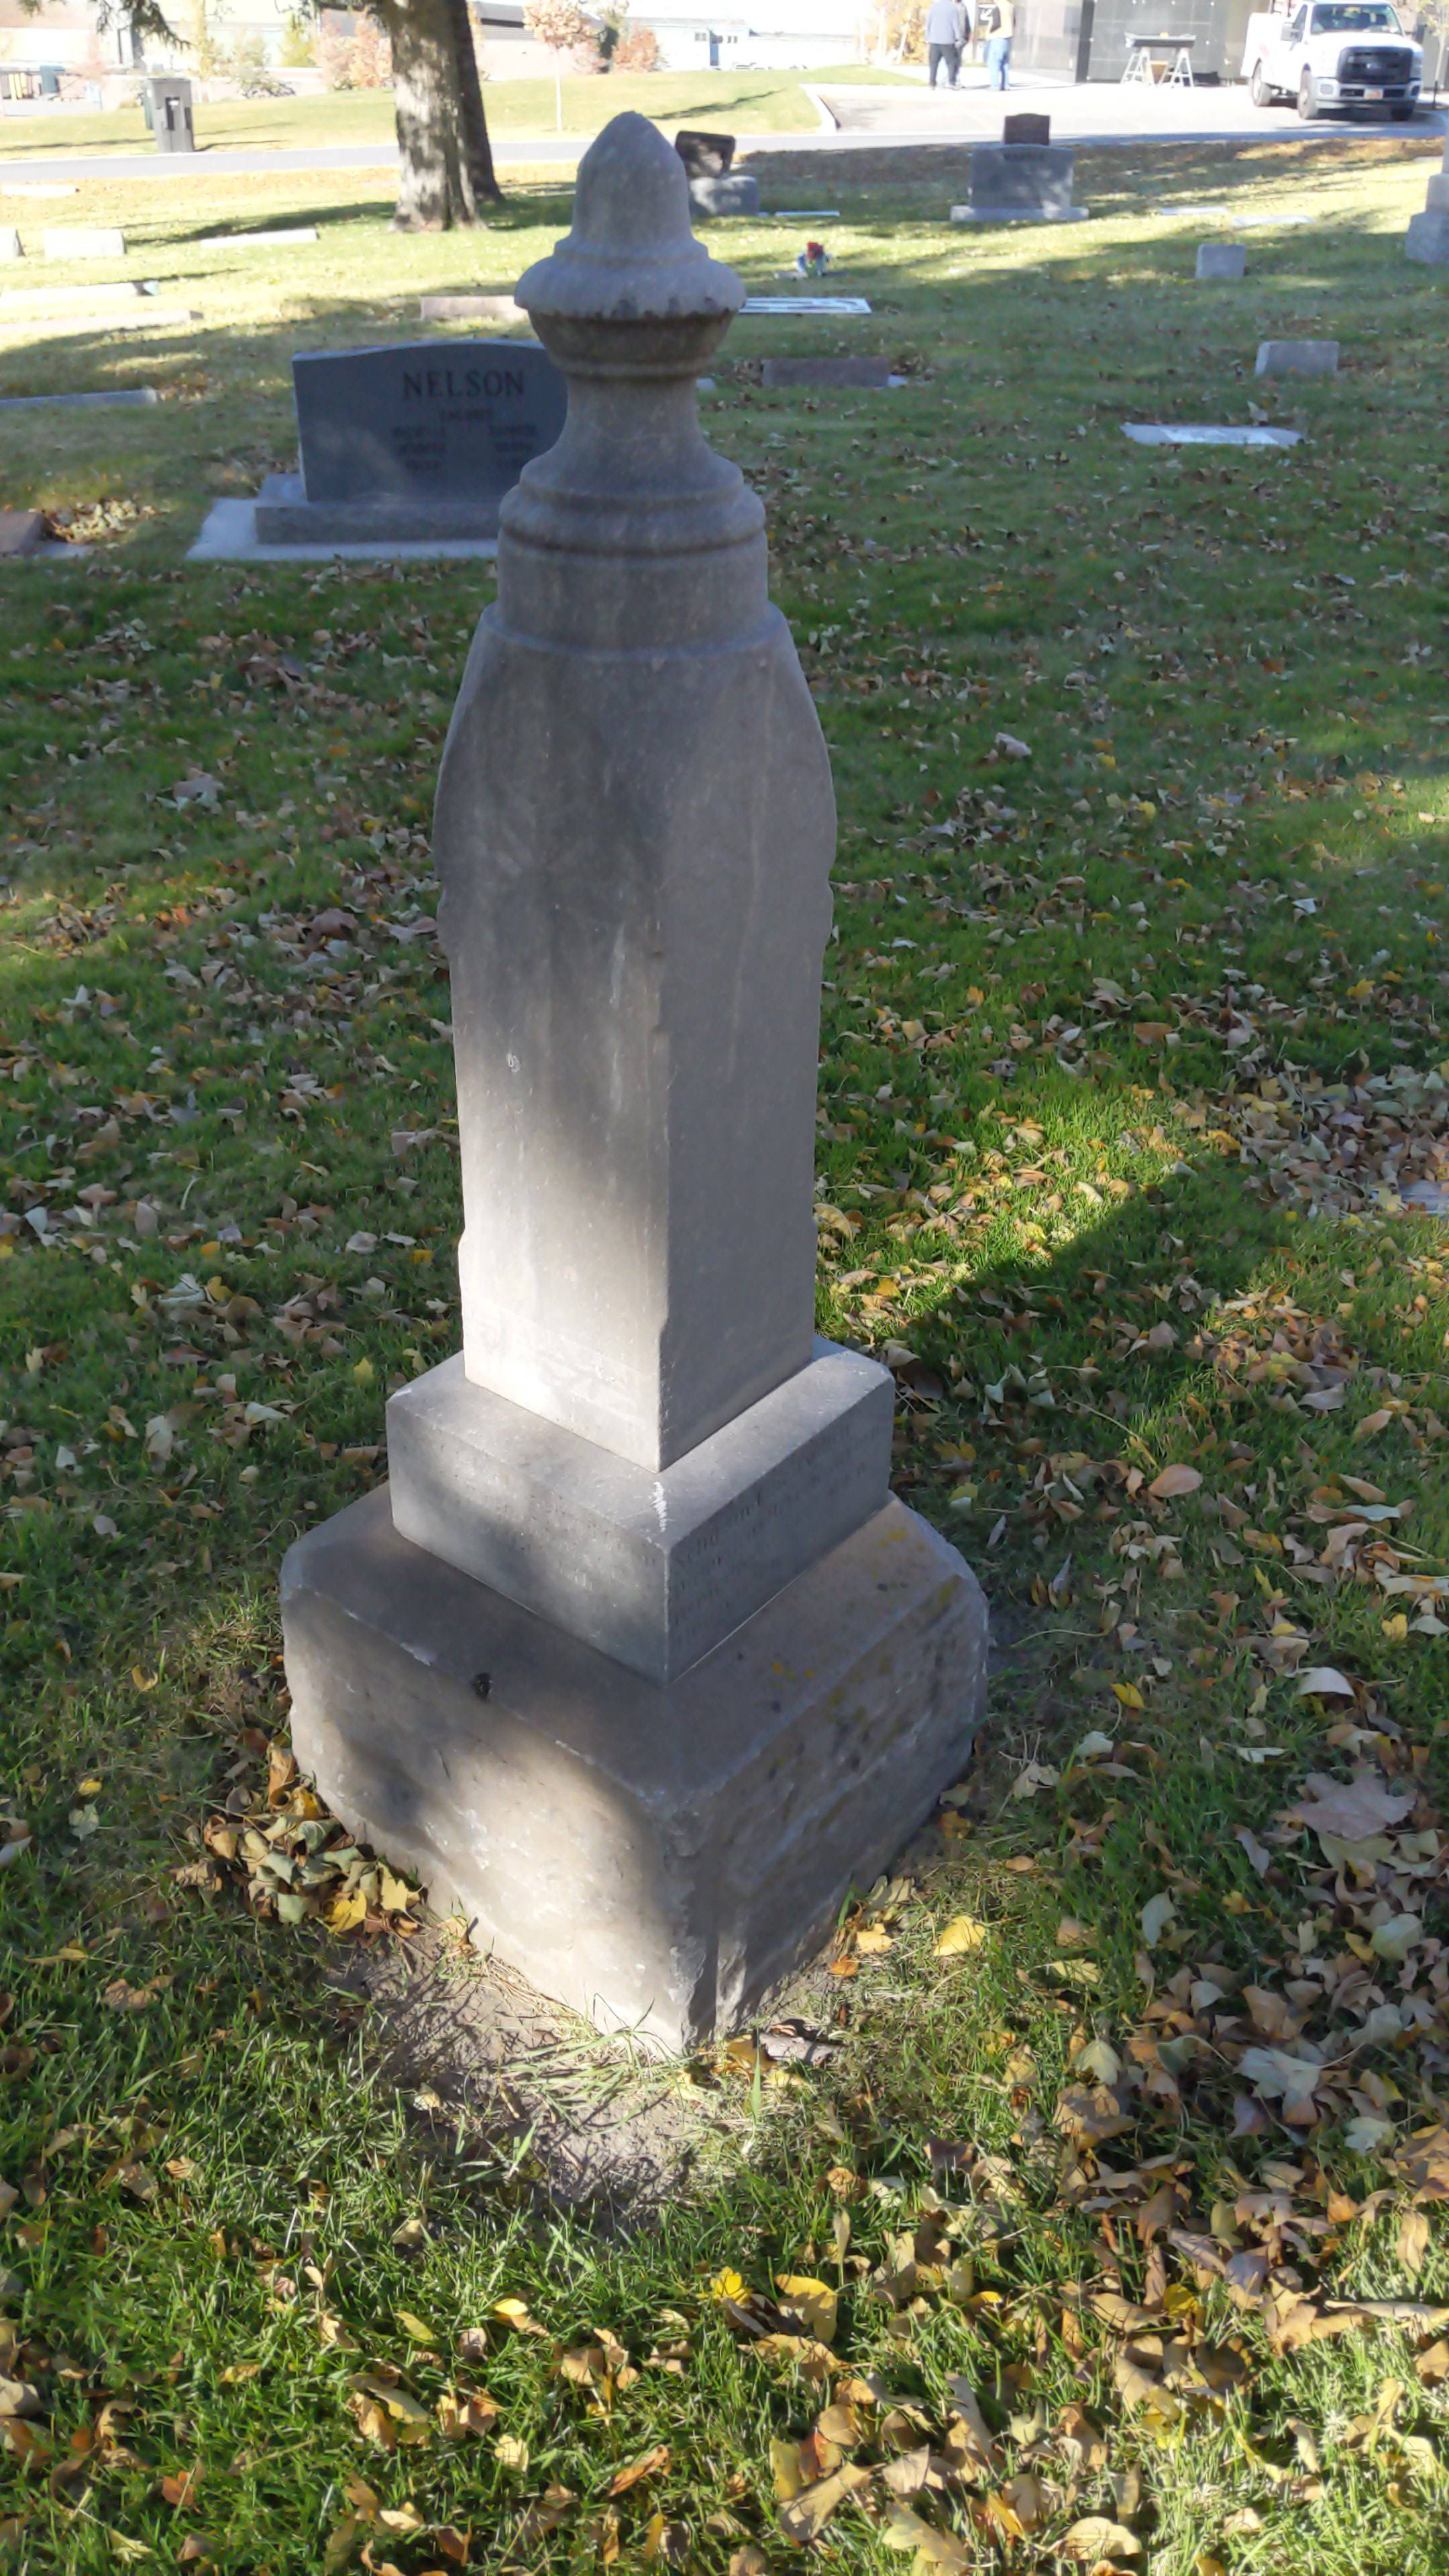obelisk: (391, 119, 885, 1644)
